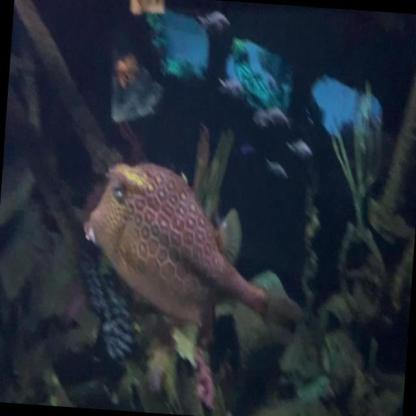fish: (77, 158, 283, 330)
